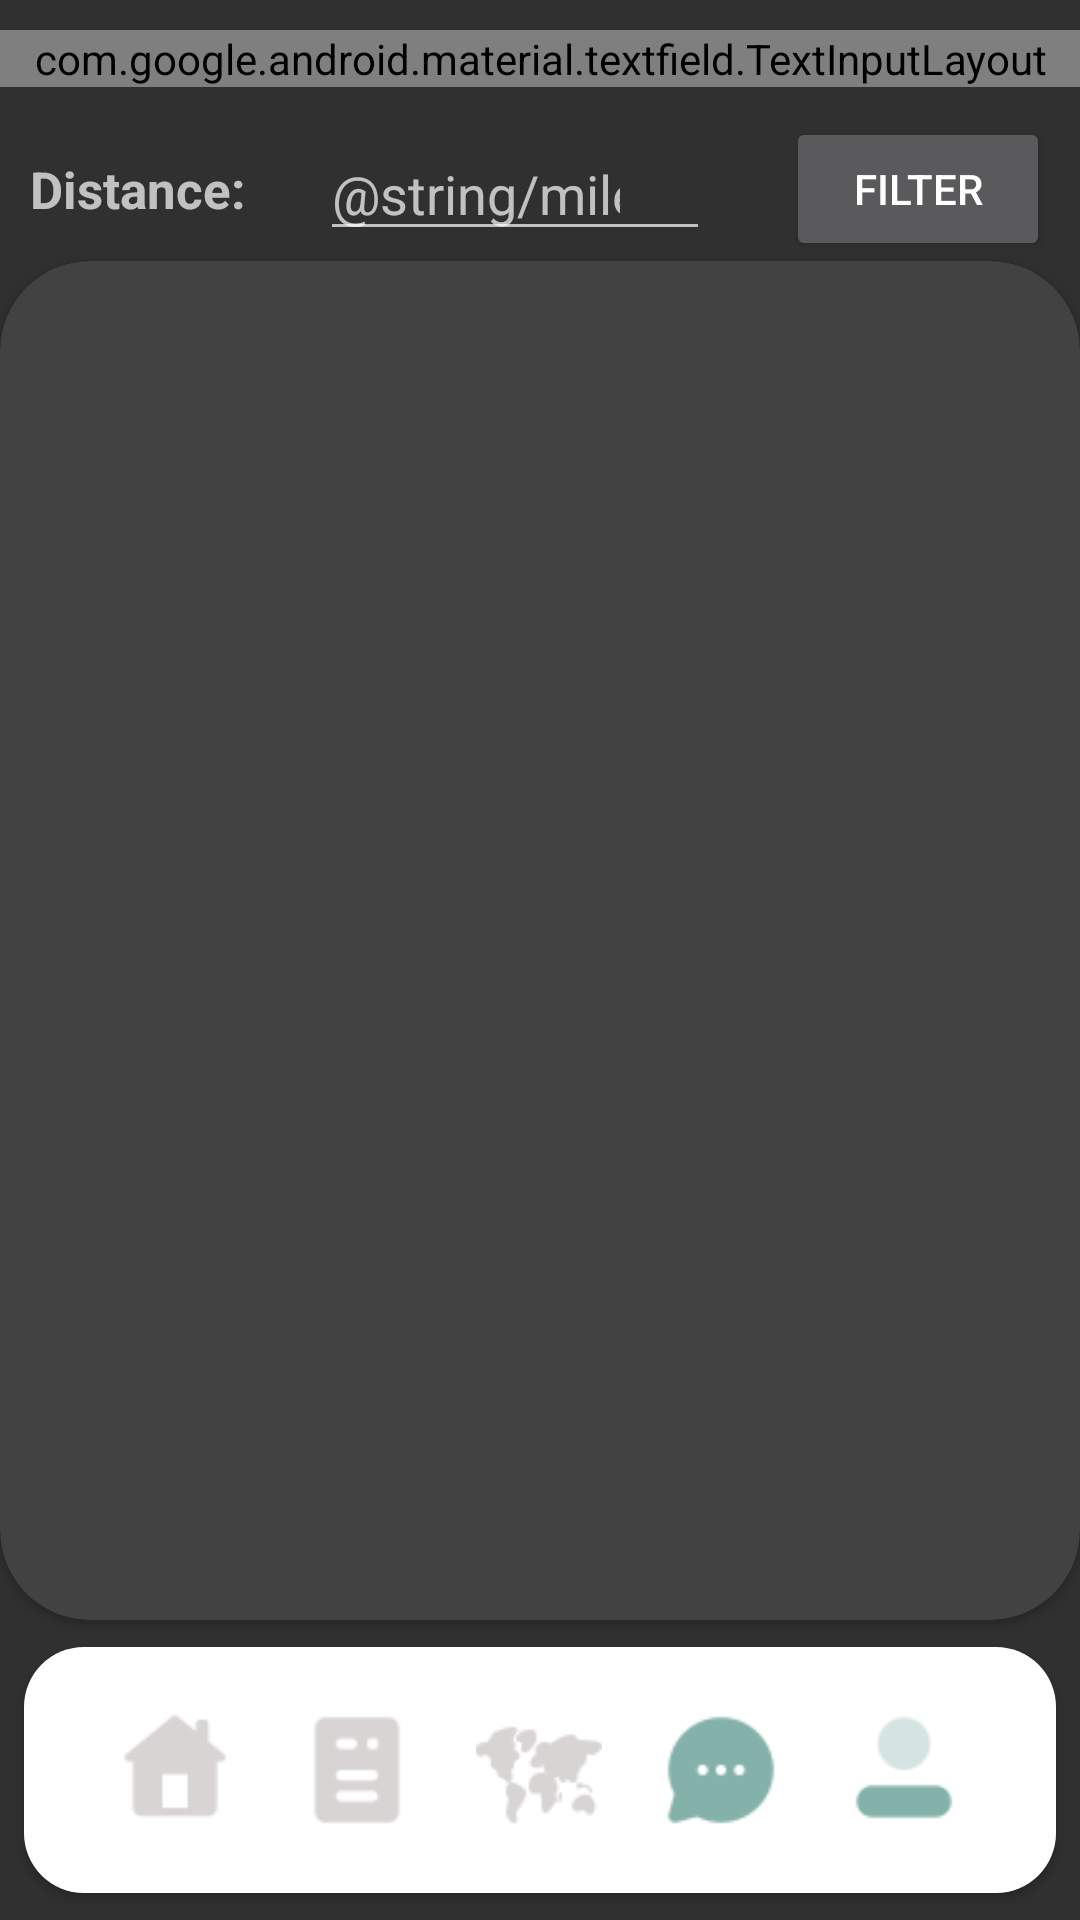

Named icons in this screenshot (1080px×1920px) and their bounding boxes, (x1=x1, y1=y1, x2=x2, y2=y2):
account: (x1=856, y1=1718, x2=952, y2=1818)
home: (x1=125, y1=1716, x2=225, y2=1816)
maps: (x1=476, y1=1727, x2=602, y2=1823)
messages: (x1=667, y1=1716, x2=775, y2=1824)
